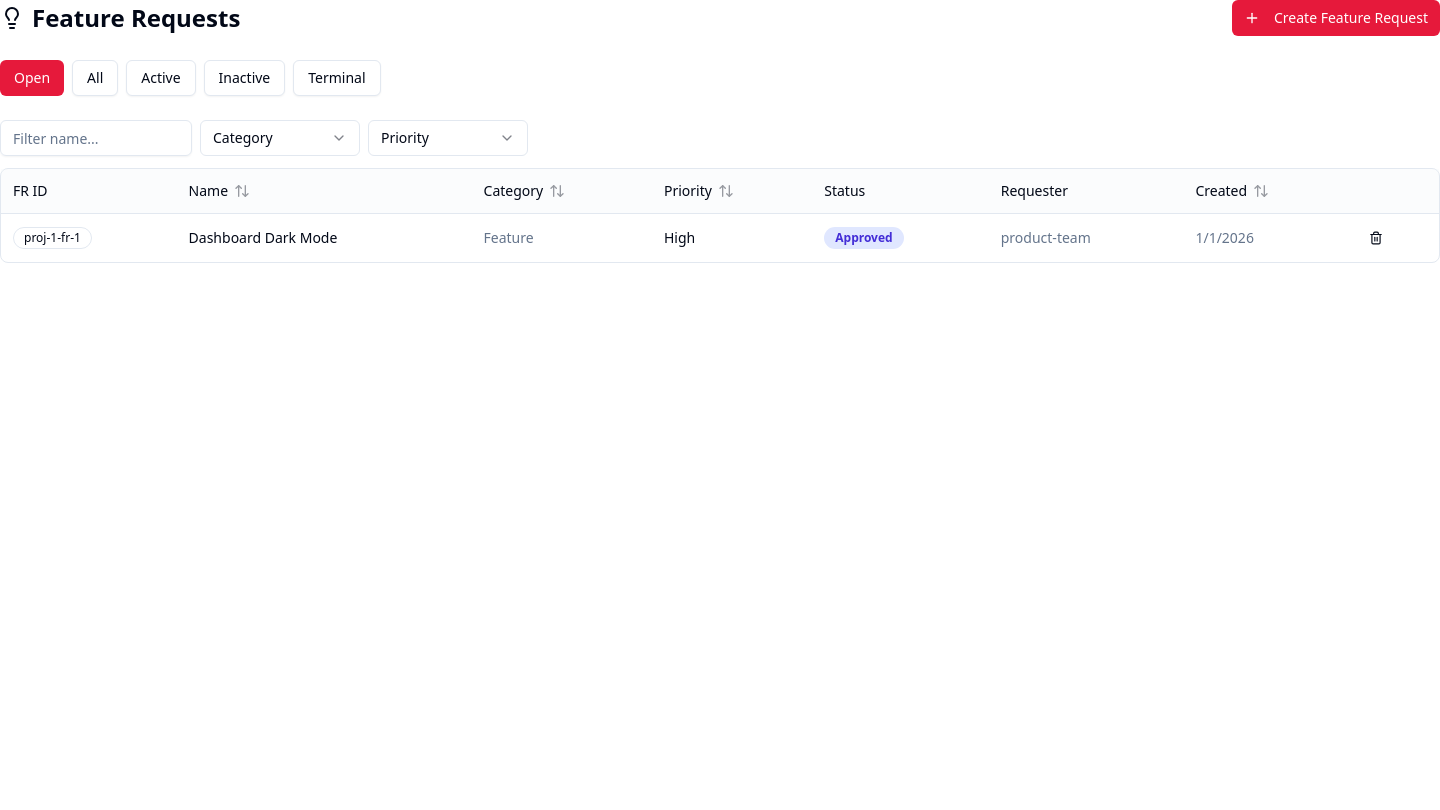
Test: FeatureRequestsListPage › shows delete confirmation dialog
The width and height of the screenshot is (1440, 810).
Check: the text "Dashboard Dark Mode" is shown, box [189,228,337,246]
Click the 6th button: (1376, 238) [1362,224,1390,252]
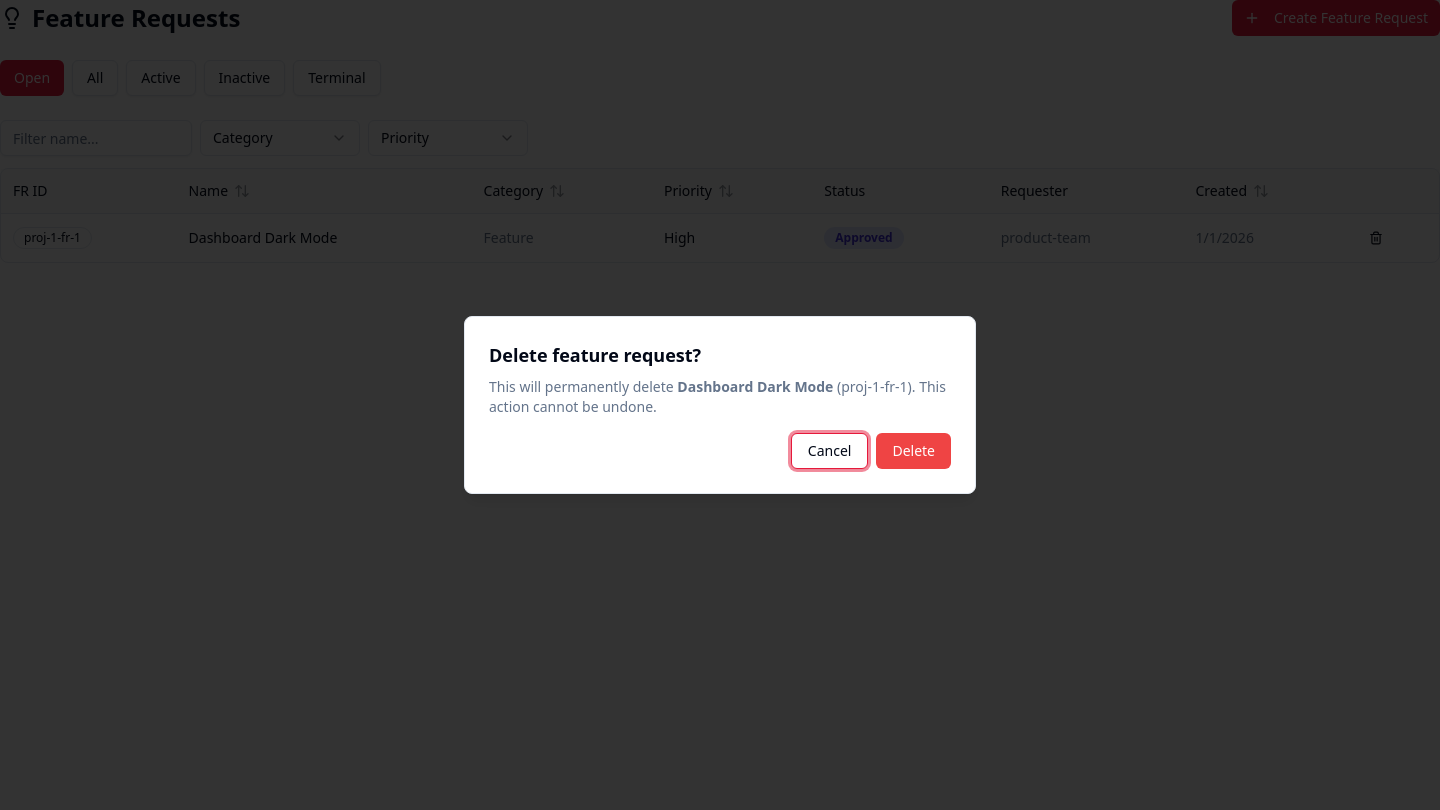
Check: the heading "Delete feature request?" is shown, box [489,343,701,367]
